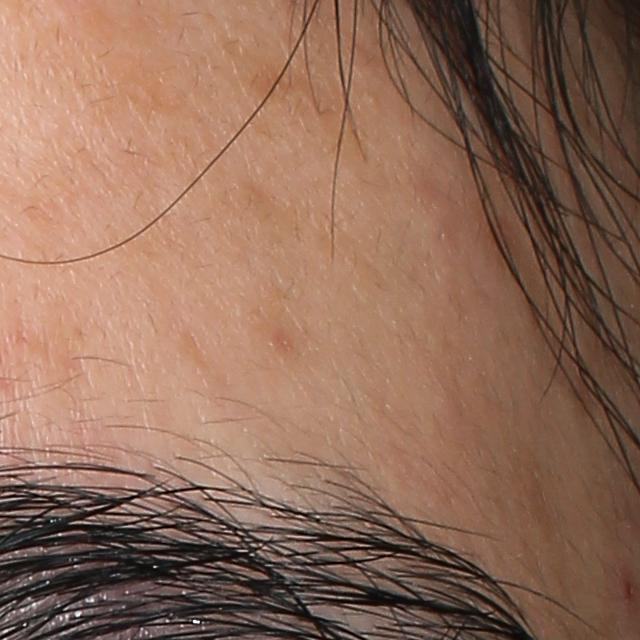papule: (617, 575, 639, 601)
